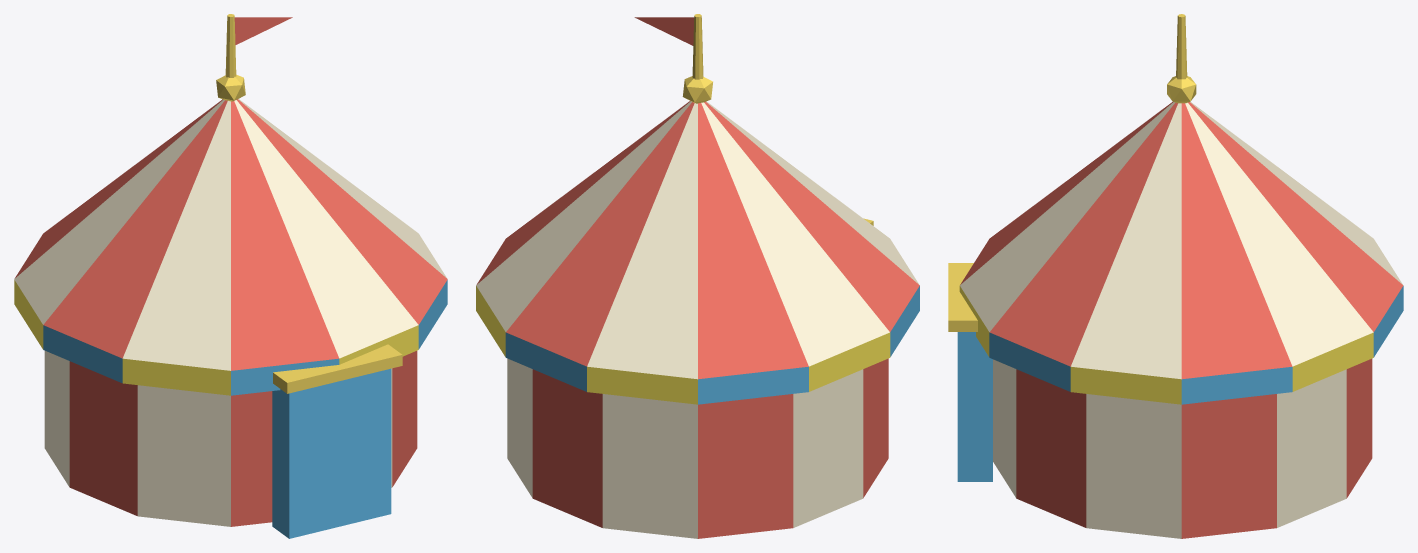
File: prop_carnival_tent_pavilion.glb
The picture shows the model from 3 angles, left to right: view 1: azimuth 30°, elevation 25°; view 2: azimuth 150°, elevation 25°; view 3: azimuth 270°, elevation 25°; orthographic projection. The views are drawn at different scales.
Parts seen in each view (by area): view 1: Mesh_Tent_Pavilion; view 2: Mesh_Tent_Pavilion; view 3: Mesh_Tent_Pavilion.
Part boxes in pixels (box(x1,y1,x2,y2)): Mesh_Tent_Pavilion: box(14, 14, 447, 538); Mesh_Tent_Pavilion: box(476, 14, 919, 538); Mesh_Tent_Pavilion: box(948, 14, 1403, 538).
Size of what is drawn, in the model's own units: 5.7 by 6.27 by 5.85.
